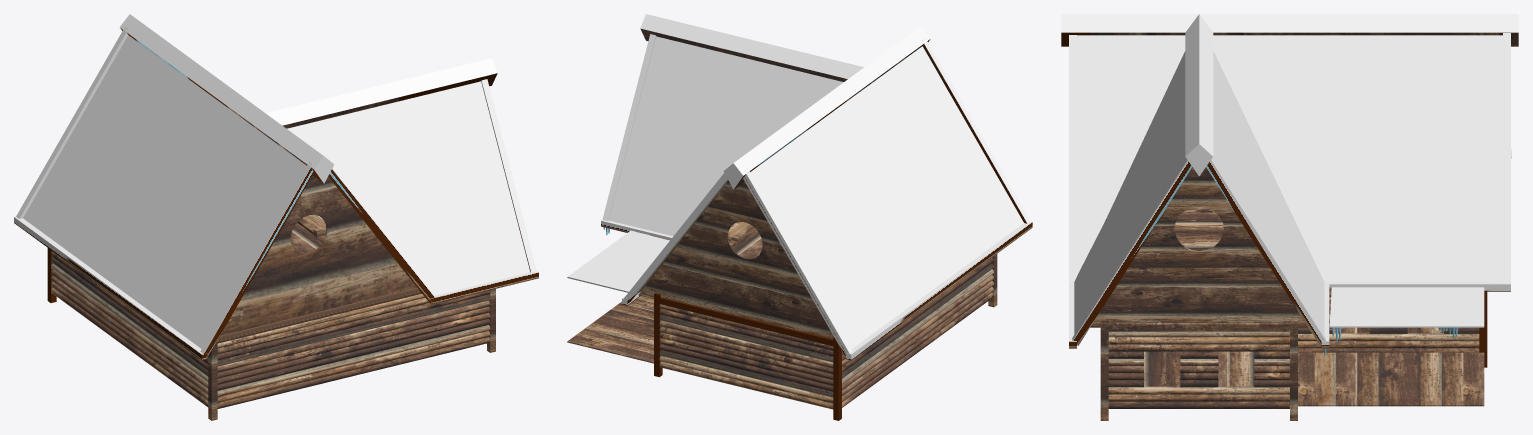
Rendered from cabin.fbx.
3 renders of one model, left to right at view 1: azimuth 30°, elevation 25°; view 2: azimuth 150°, elevation 25°; view 3: azimuth 270°, elevation 25°, orthographic. The views are drawn at different scales.
Visible parts, largest first — view 1: pCube8; view 2: pCube8; view 3: pCube8.
Part boxes in pixels (box(x1,y1,x2,y2)): pCube8: box(14, 14, 538, 420); pCube8: box(567, 14, 1032, 420); pCube8: box(1061, 14, 1518, 420).
Bounding box in the file's own units: 29.75 × 20.88 × 29.
Materials: 1 (1 with a texture image).
